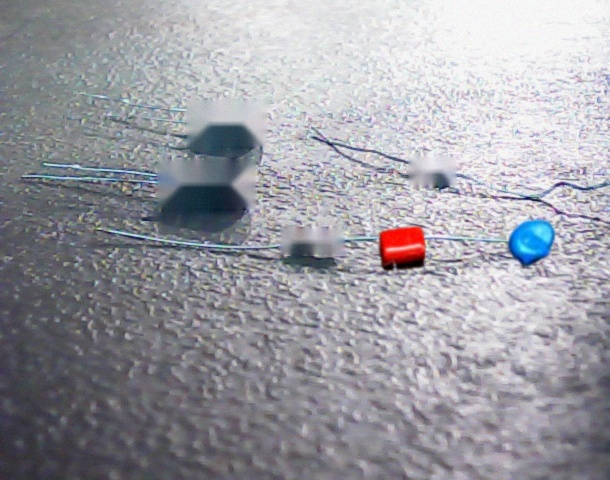capacitor: (507, 219, 555, 268), (379, 226, 426, 271)
